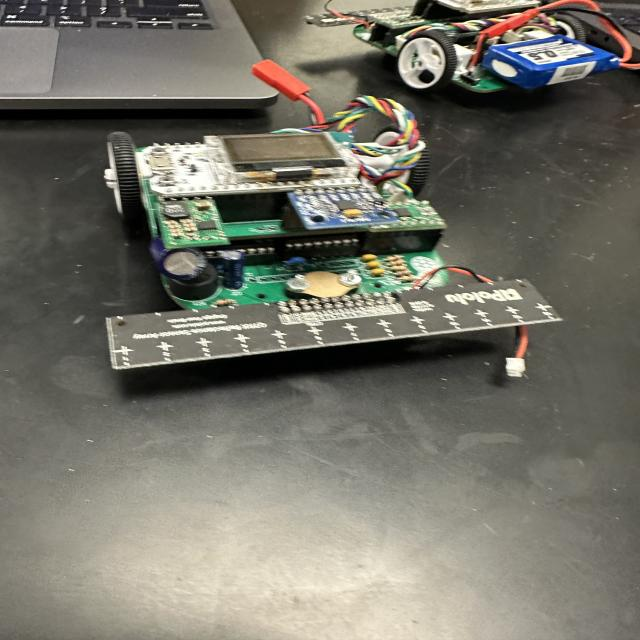robot: (100, 59, 562, 380), (302, 0, 638, 95)
